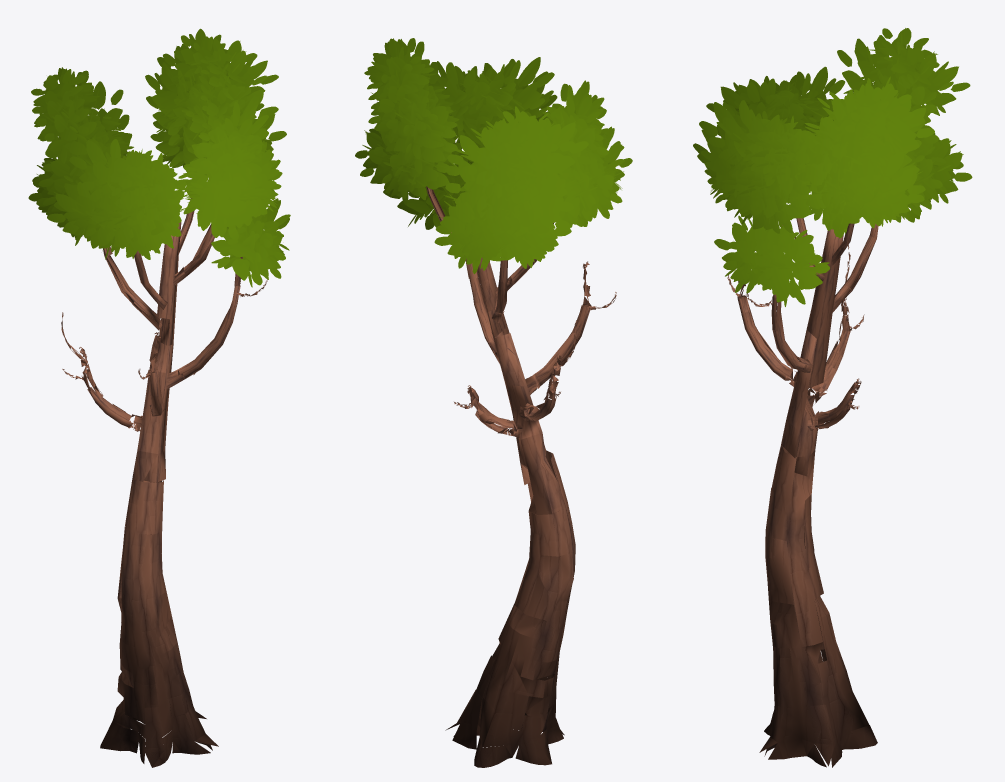
Rendered from FarTree_4.glb.
3 renders of one model, left to right at view 1: azimuth 30°, elevation 25°; view 2: azimuth 150°, elevation 25°; view 3: azimuth 270°, elevation 25°, orthographic. The views are drawn at different scales.
Visible parts, largest first — view 1: CommonTree_4, CommonTree_4_bark; view 2: CommonTree_4, CommonTree_4_bark; view 3: CommonTree_4, CommonTree_4_bark.
Part boxes in pixels (<box>): CommonTree_4: <box>28,28,290,287</box>; CommonTree_4_bark: <box>61,198,267,767</box>; CommonTree_4: <box>355,38,632,273</box>; CommonTree_4_bark: <box>426,186,616,767</box>; CommonTree_4: <box>693,28,972,306</box>; CommonTree_4_bark: <box>727,218,878,767</box>.
Size of the model in its own units: 3.83 by 9.46 by 3.76.
2 materials, 2 textured.
